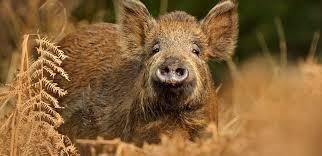wildboar: (39, 0, 239, 156)
